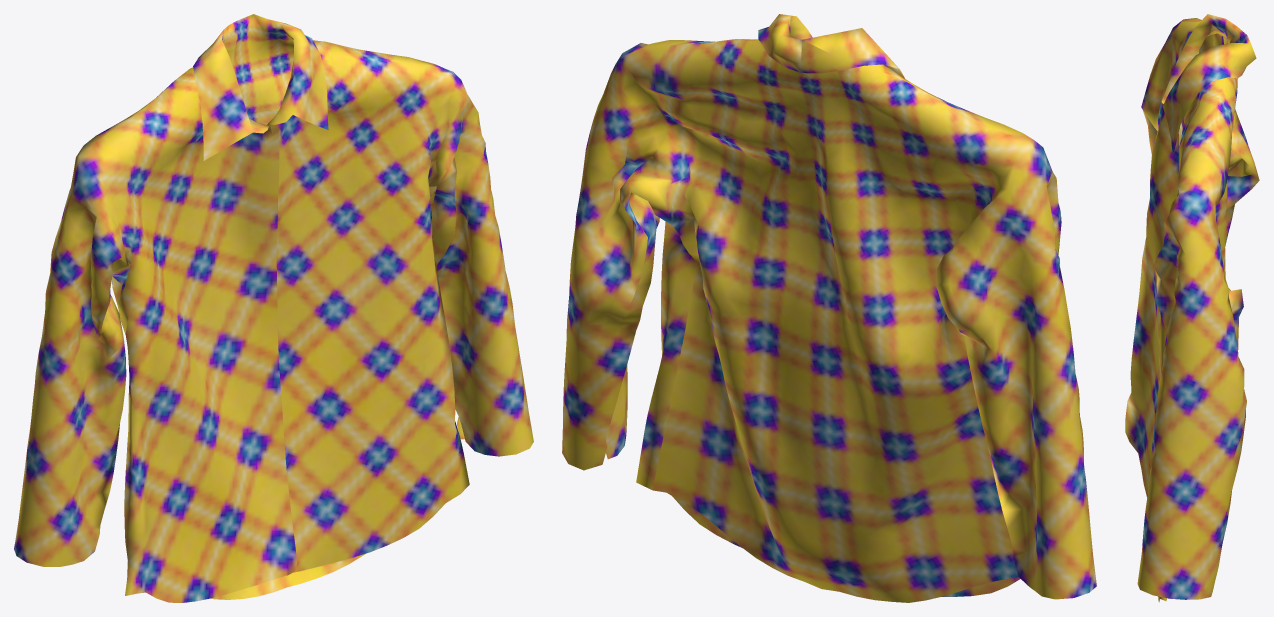
File: ShirtOrgazied.fbx
The picture shows the model from 3 angles, left to right: view 1: azimuth 30°, elevation 25°; view 2: azimuth 150°, elevation 25°; view 3: azimuth 270°, elevation 25°; orthographic projection. The views are drawn at different scales.
Parts seen in each view (by area): view 1: Shirt_Organized; view 2: Shirt_Organized; view 3: Shirt_Organized.
Part boxes in pixels (x1,y1,x2,y2): Shirt_Organized: (14,14,533,602); Shirt_Organized: (562,14,1096,602); Shirt_Organized: (1125,14,1259,602).
Bounding box in the file's own units: 59.86 × 62.82 × 14.29.
